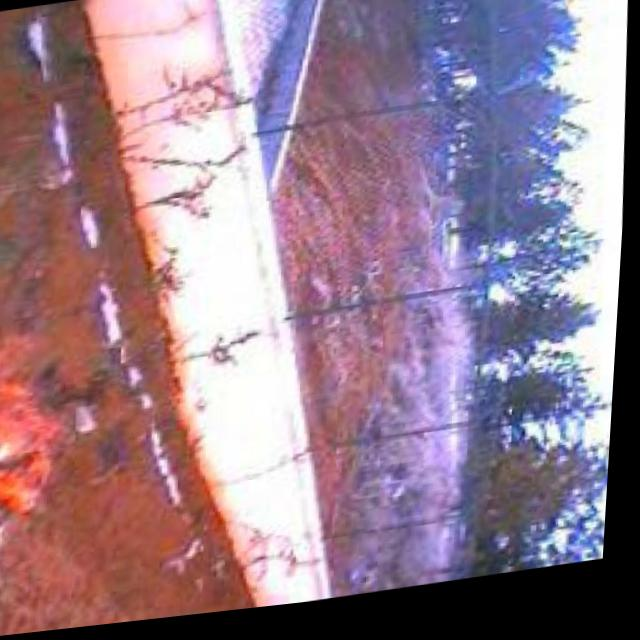Fire: (0, 353, 81, 544)
